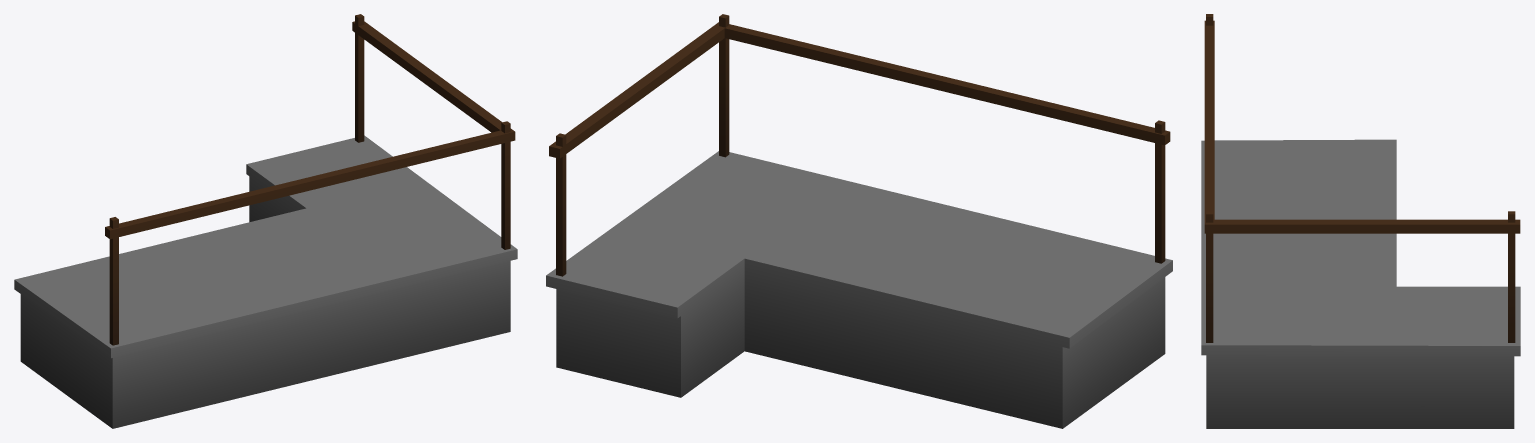
File: StandPasar3.fbx
The picture shows the model from 3 angles, left to right: view 1: azimuth 30°, elevation 25°; view 2: azimuth 150°, elevation 25°; view 3: azimuth 270°, elevation 25°; orthographic projection. The views are drawn at different scales.
Parts seen in each view (by area): view 1: PasarStand_LOD0; view 2: PasarStand_LOD0; view 3: PasarStand_LOD0.
Part boxes in pixels (x1,y1,x2,y2): PasarStand_LOD0: (14, 14, 517, 428); PasarStand_LOD0: (546, 14, 1172, 428); PasarStand_LOD0: (1201, 14, 1520, 428).
Size of what is drawn, in the model's own units: 430 by 209 by 281.
